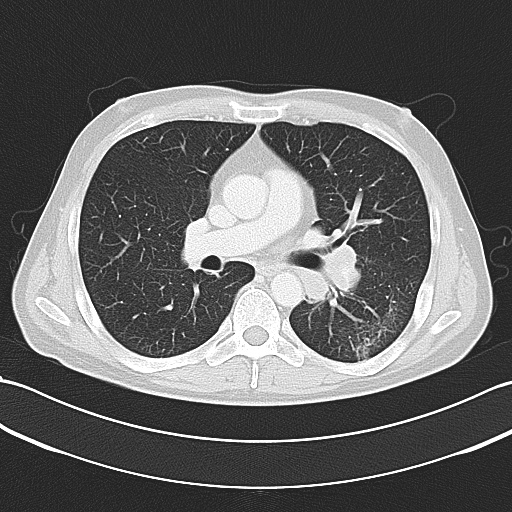Copy of cancer: (309, 261, 368, 318)
cancer: (299, 244, 358, 301)
